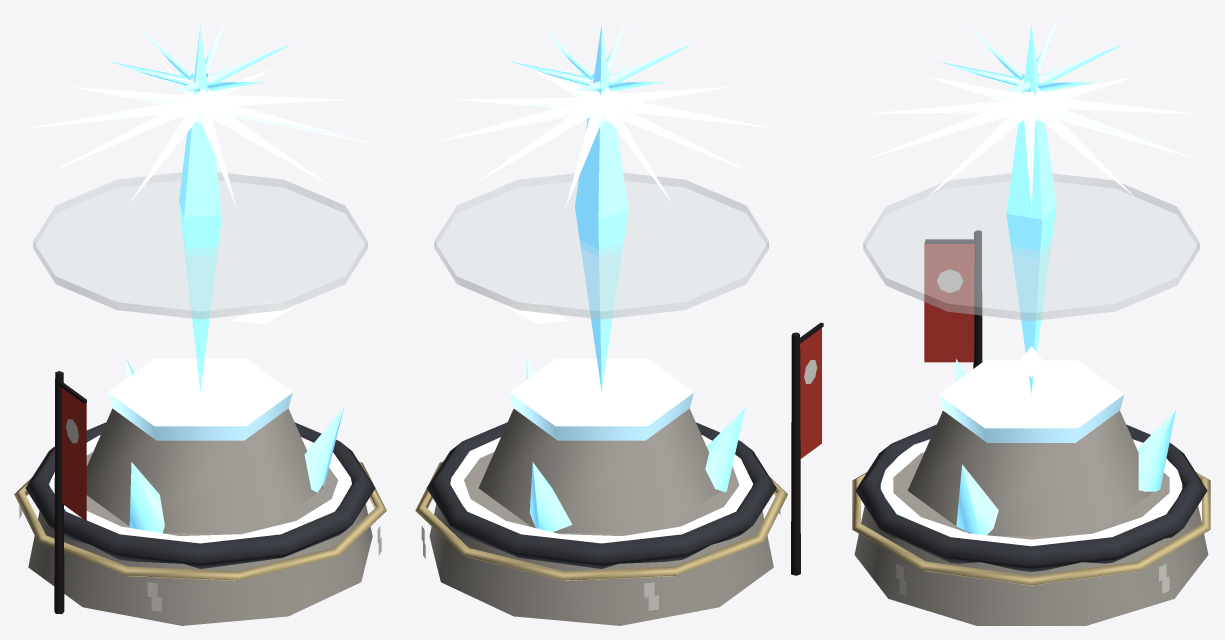
The model's file is tower_freeze_winter.glb.
3 renders of one model, left to right at view 1: azimuth 30°, elevation 25°; view 2: azimuth 150°, elevation 25°; view 3: azimuth 270°, elevation 25°, orthographic.
Parts seen in each view (by area): view 1: winter_mist, pedestal, base, pedestal_frost, base_rim, crystal, deco_shimenawa_rope, aura_ring, deco_nobori_cloth, deco_nobori_pole, side_crystal_1, side_crystal_0 (+10 smaller); view 2: winter_mist, pedestal, base, pedestal_frost, base_rim, crystal, deco_shimenawa_rope, aura_ring, deco_nobori_pole, deco_nobori_cloth, side_crystal_1, side_crystal_2 (+10 smaller); view 3: winter_mist, base, pedestal, pedestal_frost, base_rim, crystal, deco_nobori_cloth, deco_shimenawa_rope, aura_ring, side_crystal_0, side_crystal_2, deco_nobori_pole (+12 smaller).
Part boxes in pixels (bbox=[...]): winter_mist: bbox=[33, 172, 367, 319]; pedestal: bbox=[86, 408, 323, 533]; base: bbox=[28, 452, 372, 625]; pedestal_frost: bbox=[108, 358, 292, 440]; base_rim: bbox=[25, 422, 375, 568]; crystal: bbox=[179, 24, 221, 391]; deco_shimenawa_rope: bbox=[14, 461, 386, 580]; aura_ring: bbox=[49, 435, 351, 543]; deco_nobori_cloth: bbox=[62, 388, 86, 520]; deco_nobori_pole: bbox=[54, 371, 64, 614]; side_crystal_1: bbox=[129, 462, 164, 532]; side_crystal_0: bbox=[304, 408, 343, 492]; winter_mist: bbox=[434, 173, 768, 319]; pedestal: bbox=[478, 408, 720, 533]; base: bbox=[429, 452, 773, 625]; pedestal_frost: bbox=[509, 358, 693, 440]; base_rim: bbox=[426, 422, 776, 568]; crystal: bbox=[575, 25, 628, 391]; deco_shimenawa_rope: bbox=[415, 461, 787, 580]; aura_ring: bbox=[450, 435, 752, 543]; deco_nobori_pole: bbox=[791, 332, 800, 575]; deco_nobori_cloth: bbox=[800, 328, 821, 458]; side_crystal_1: bbox=[705, 407, 745, 492]; side_crystal_2: bbox=[529, 462, 572, 532]; winter_mist: bbox=[863, 173, 1199, 320]; base: bbox=[854, 452, 1208, 625]; pedestal: bbox=[907, 411, 1153, 535]; pedestal_frost: bbox=[938, 360, 1124, 442]; base_rim: bbox=[855, 424, 1207, 571]; crystal: bbox=[1006, 24, 1056, 393]; deco_nobori_cloth: bbox=[924, 242, 974, 362]; deco_shimenawa_rope: bbox=[852, 472, 1210, 585]; aura_ring: bbox=[880, 439, 1182, 546]; side_crystal_0: bbox=[956, 464, 998, 535]; side_crystal_2: bbox=[1137, 409, 1175, 491]; deco_nobori_pole: bbox=[973, 230, 982, 368].
Size of the model in its own units: 0.4387 by 0.662 by 0.4052.
